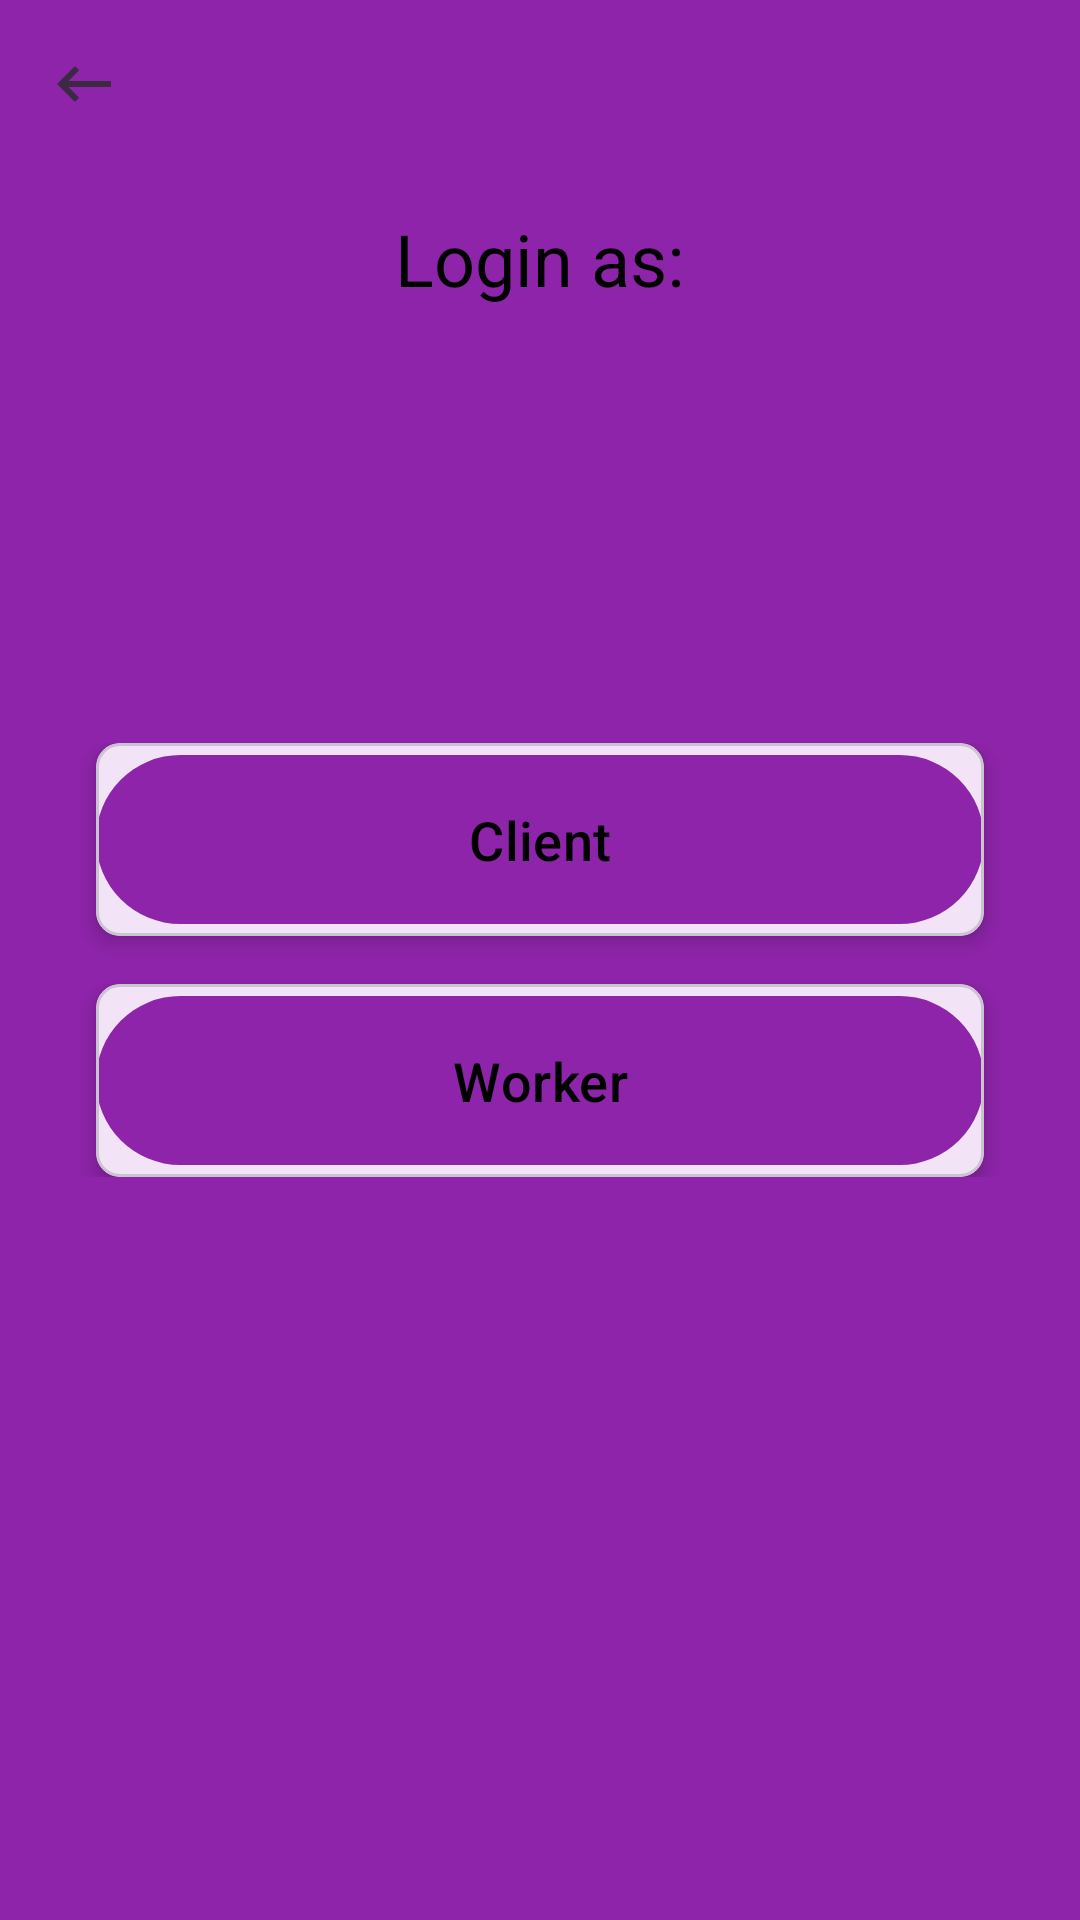

Icons on this 1080*1920 Android screen, each with the point to tap as [x,y]:
backarrow: [84,84]
